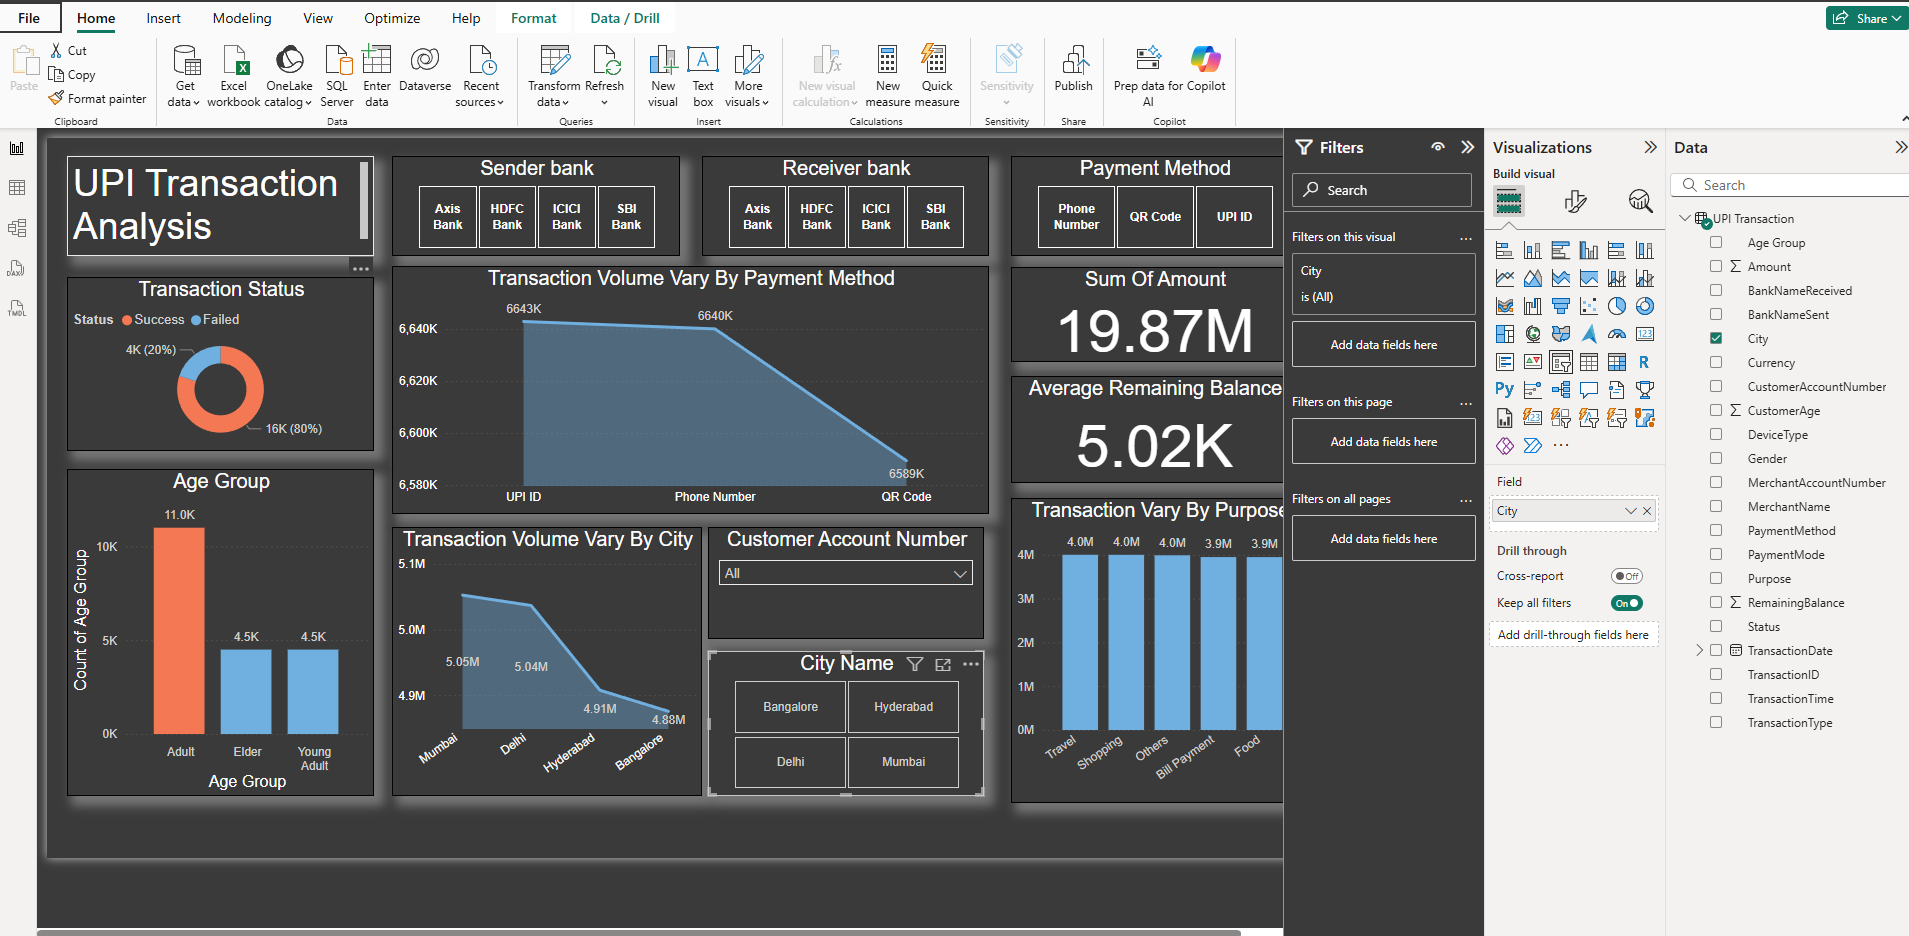

The page's visual inventory and layout, read from the dashboard file:
{"tool":"powerbi","page":{"name":"Page 1","canvas":[1280,720],"ordinal":0},"visuals":[{"type":"textbox","box":[19.8,17.8,306.9,100],"z":0},{"type":"slicer","title":"Sender bank","fields":{"Values":["UPI Transaction.BankNameSent"]},"box":[345.5,17.8,287.1,100],"z":1000},{"type":"slicer","title":"Receiver bank","fields":{"Values":["UPI Transaction.BankNameReceived"]},"box":[655.3,17.8,287.1,100],"z":2000},{"type":"slicer","title":"Payment Method","fields":{"Values":["UPI Transaction.PaymentMethod"]},"box":[964.2,17.8,287.1,100],"z":3000},{"type":"card","title":"Sum Of Amount","fields":{"Values":["Sum(UPI Transaction.Amount)"]},"box":[964.2,128.7,287.1,95],"z":4000},{"type":"donutChart","title":"Transaction Status","fields":{"Category":["UPI Transaction.Status"],"Y":["CountNonNull(UPI Transaction.Status)"]},"box":[19.8,138.6,306.9,174.2],"z":5000},{"type":"areaChart","title":"Transaction  Volume Vary By Payment Method","fields":{"Category":["UPI Transaction.PaymentMethod"],"Y":["Sum(UPI Transaction.Amount)"]},"box":[345.2,128.4,596.9,247.6],"z":6000},{"type":"stackedAreaChart","title":"Transaction  Volume Vary By City","fields":{"Category":["UPI Transaction.City"],"Y":["Sum(UPI Transaction.Amount)"]},"box":[345.2,389.3,310.2,269.1],"z":7000},{"type":"columnChart","title":"Age Group","fields":{"Category":["UPI Transaction.Age Group"],"Y":["CountNonNull(UPI Transaction.Age Group)"]},"box":[19.8,330.6,306.9,327.7],"z":8000},{"type":"card","title":"Average Remaining Balance","fields":{"Values":["Avg(UPI Transaction.RemainingBalance)"]},"box":[964.2,237.6,287.1,107.9],"z":9000},{"type":"columnChart","title":"Transaction Vary By Purpose","fields":{"Category":["UPI Transaction.Purpose"],"Y":["Sum(UPI Transaction.Amount)"]},"box":[964.2,360.3,297,304.9],"z":10000},{"type":"slicer","title":"Customer Account Number","fields":{"Values":["UPI Transaction.CustomerAccountNumber"]},"box":[660.5,389.3,276.3,112],"z":11000},{"type":"slicer","title":"City Name","fields":{"Values":["UPI Transaction.City"]},"box":[660.5,512.6,276.3,145.9],"z":12000}]}

Visuals, with their boxes on the page's 1280x720 design canvas (x1, y1, x2, y2). These are canvas units, not pixel positions in the 1909x936 screenshot, which may show the page scaled, cropped or inside an application window:
textbox: (20, 18, 327, 118)
"Sender bank" slicer: (346, 18, 633, 118)
"Receiver bank" slicer: (655, 18, 942, 118)
"Payment Method" slicer: (964, 18, 1251, 118)
"Sum Of Amount" card: (964, 129, 1251, 224)
"Transaction Status" donutChart: (20, 139, 327, 313)
"Transaction  Volume Vary By Payment Method" areaChart: (345, 128, 942, 376)
"Transaction  Volume Vary By City" stackedAreaChart: (345, 389, 655, 658)
"Age Group" columnChart: (20, 331, 327, 658)
"Average Remaining Balance" card: (964, 238, 1251, 346)
"Transaction Vary By Purpose" columnChart: (964, 360, 1261, 665)
"Customer Account Number" slicer: (660, 389, 937, 501)
"City Name" slicer: (660, 513, 937, 658)
